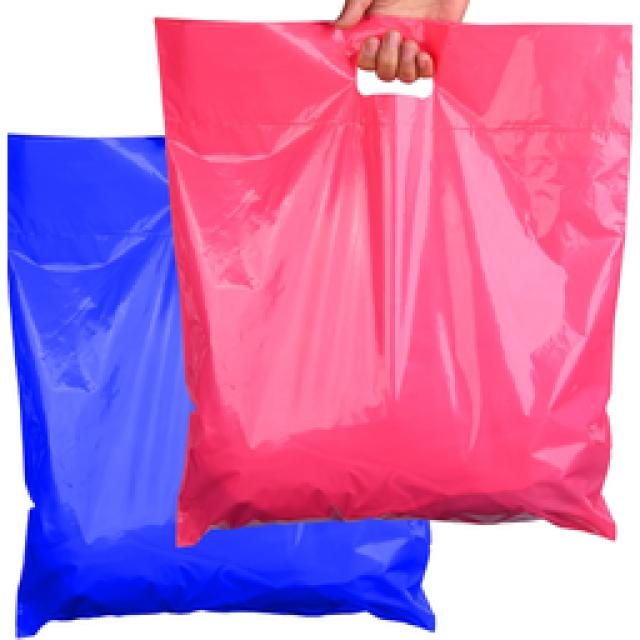plastic: (8, 18, 630, 632)
